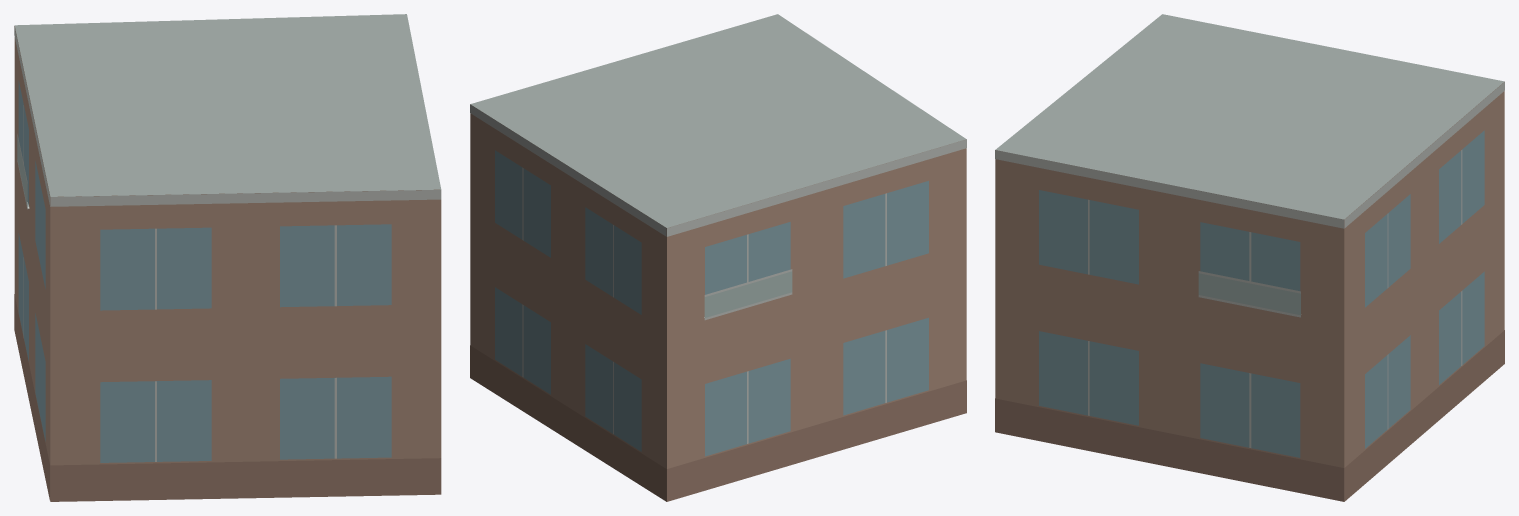
Rendered from survey-upis-32634252.glb.
The picture shows the model from 3 angles, left to right: view 1: azimuth 30°, elevation 25°; view 2: azimuth 150°, elevation 25°; view 3: azimuth 270°, elevation 25°; orthographic projection. The views are drawn at different scales.
Parts seen in each view (by area): view 1: survey-upis-32634252.tmp; view 2: survey-upis-32634252.tmp; view 3: survey-upis-32634252.tmp.
Boxes of the visible parts, x1,y1,x2,y2 form: survey-upis-32634252.tmp: (14,14,441,501); survey-upis-32634252.tmp: (470,14,966,501); survey-upis-32634252.tmp: (995,14,1504,501).
Bounding box in the file's own units: 11.72 × 7.5 × 12.28.
